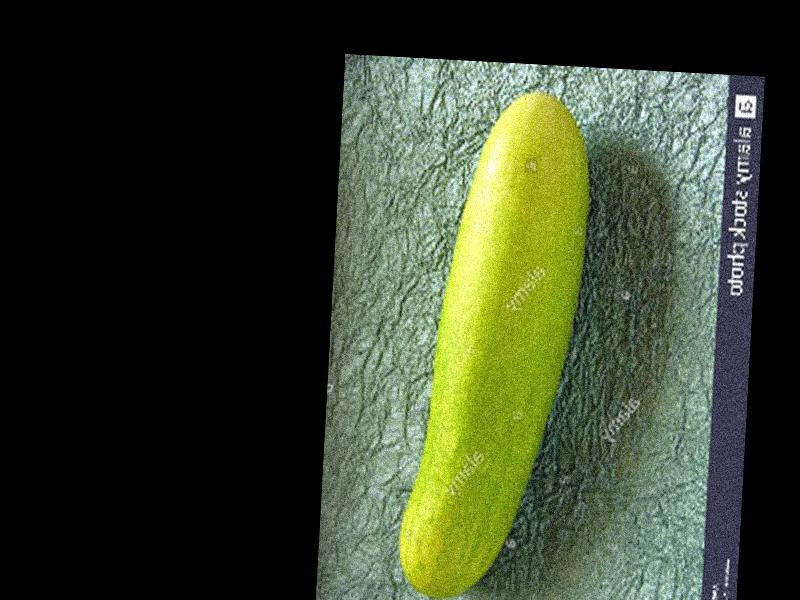Cucumber: (395, 85, 593, 600)
